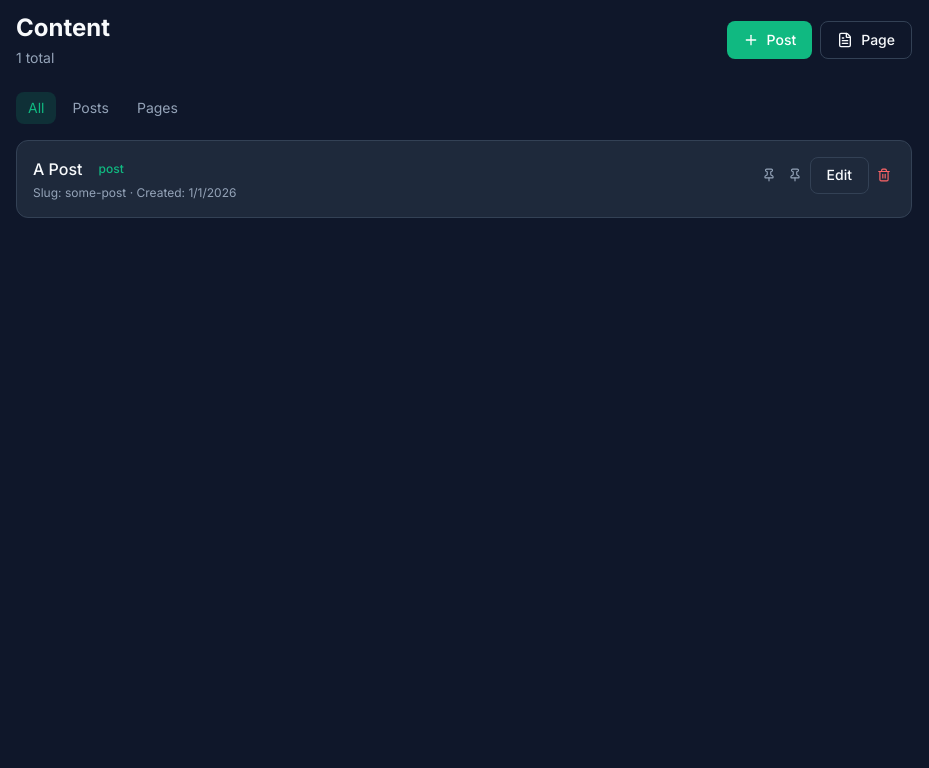
Test: Content settings page › edit content › closes the add form when edit starts (mutual exclusion)
Expected: the text "A Post" is shown, 33,157 -> 82,181
Step 1. Click the button "Post" → x=769, y=40, box 727,21 -> 812,59
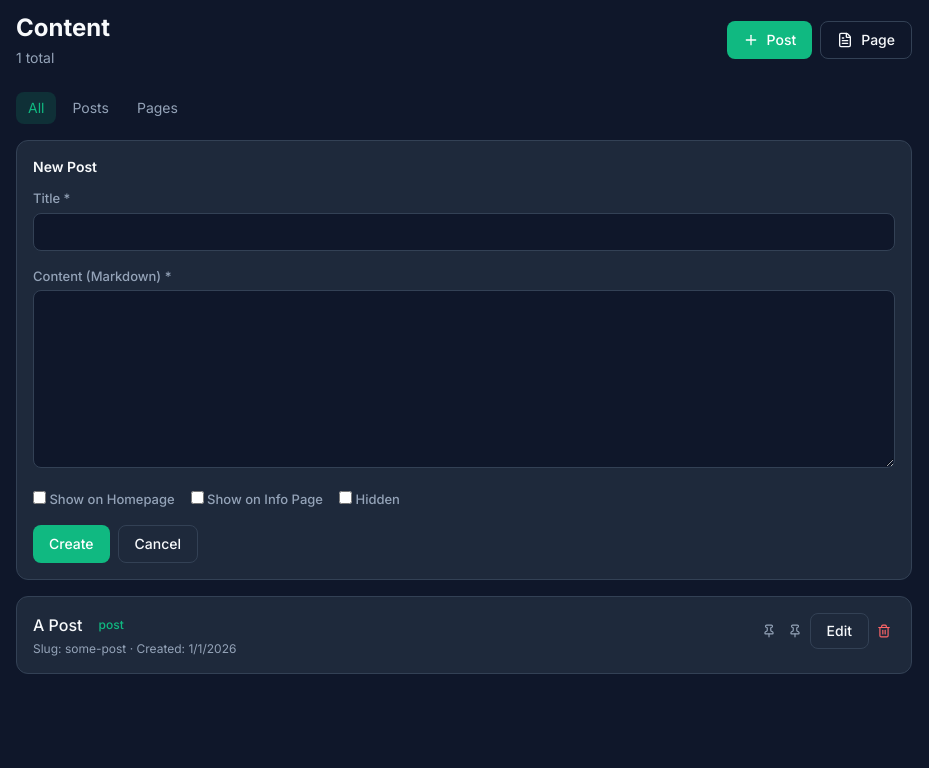
Now the heading "New Post" is shown, box 33,158 -> 97,175
Step 2. Click the button "Edit" → x=839, y=631, box 810,613 -> 869,649
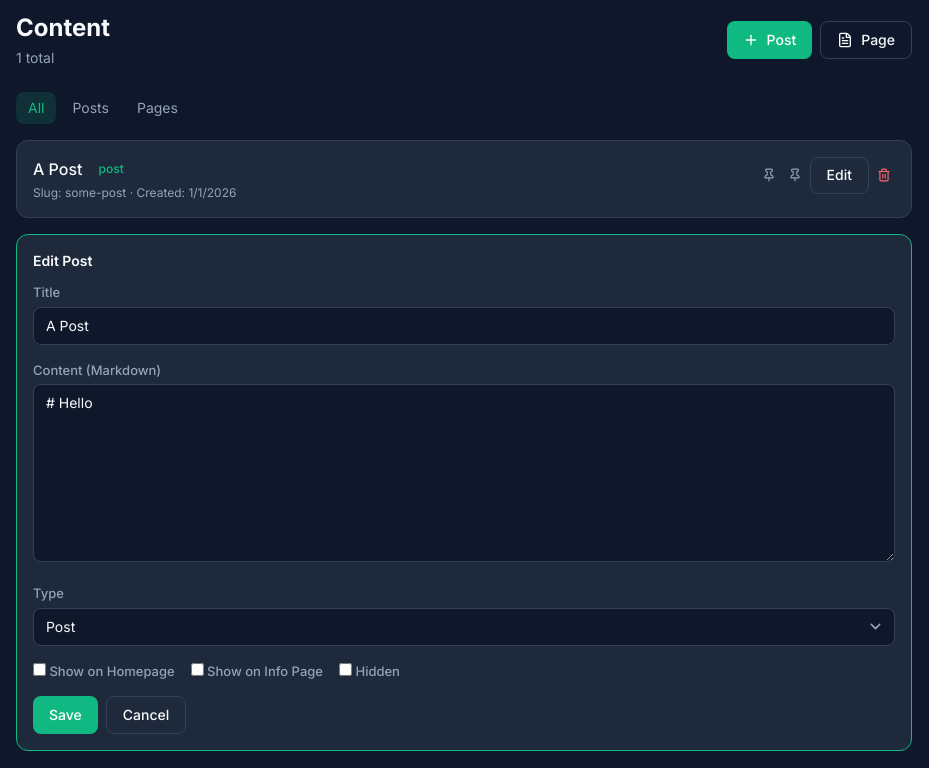
Now the heading "New Post" is gone
Now the heading "Edit Post" is shown, box 33,252 -> 92,269
